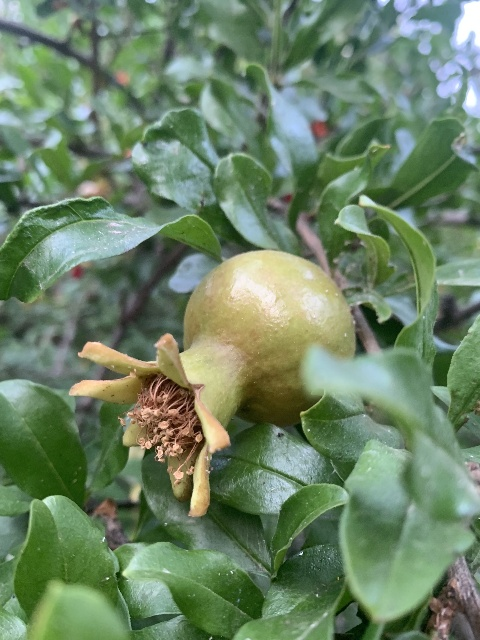mid-growth: (68, 248, 355, 520)
